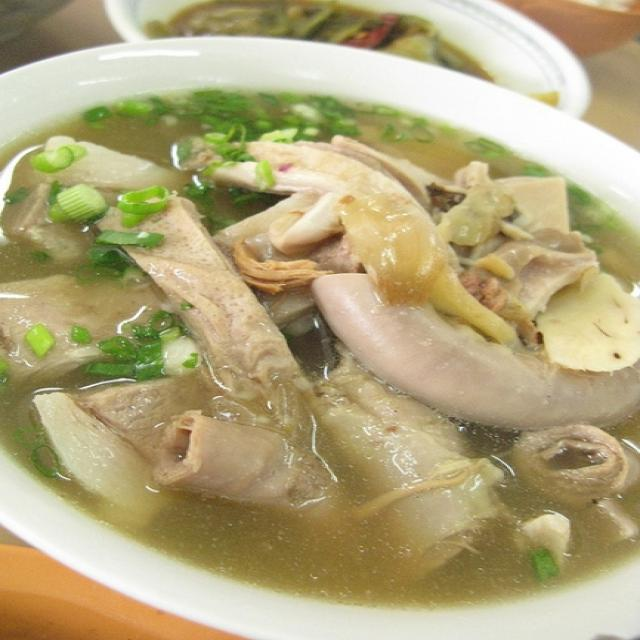汤锅炖物: (12, 50, 621, 599)
